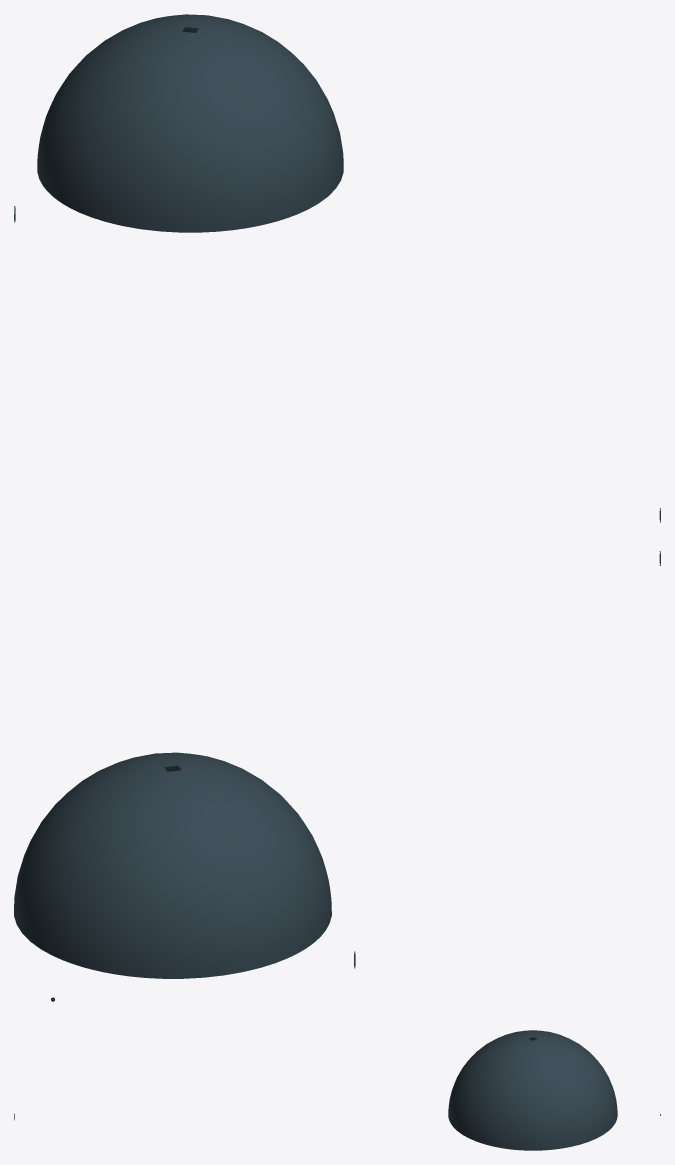
Rendered from Dome.fbx.
The picture shows the model from 3 angles, top to bottom: view 1: azimuth 30°, elevation 25°; view 2: azimuth 150°, elevation 25°; view 3: azimuth 270°, elevation 25°; orthographic projection. The views are drawn at different scales.
Visible parts, largest first — view 1: Sphere_1_2; view 2: Sphere_1_2; view 3: Sphere_1_2.
Boxes of the visible parts, <box> form: Sphere_1_2: <box>37,14,343,232</box>; Sphere_1_2: <box>14,752,331,978</box>; Sphere_1_2: <box>448,1030,617,1150</box>.
Size of the model in its own units: 2810 by 1307 by 9229.
